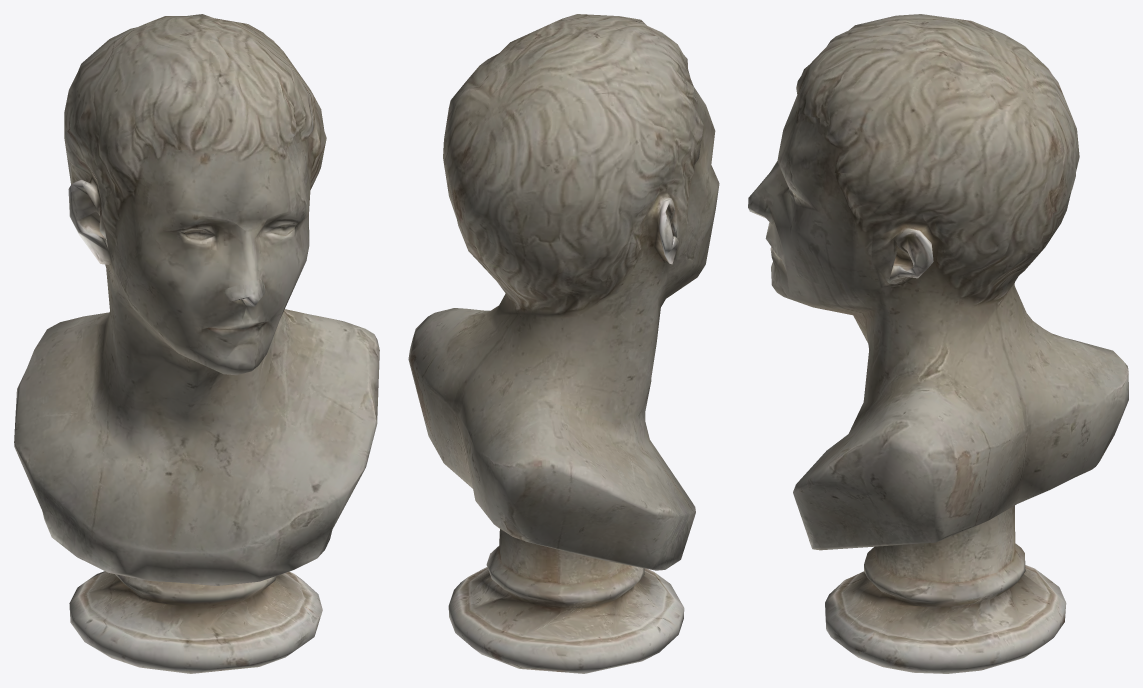
3 views of the same model, side by side, from view 1: azimuth 30°, elevation 25°; view 2: azimuth 150°, elevation 25°; view 3: azimuth 270°, elevation 25° (orthographic). The views are drawn at different scales.
Visible parts, largest first — view 1: marble_bust_01; view 2: marble_bust_01; view 3: marble_bust_01.
Boxes of the visible parts, x1,y1,x2,y2 form: marble_bust_01: [14, 14, 379, 673]; marble_bust_01: [408, 14, 719, 673]; marble_bust_01: [748, 14, 1128, 673].
Bounding box in the file's own units: 0.2717 × 0.5147 × 0.2976.
Materials: 1 (1 with a texture image).
